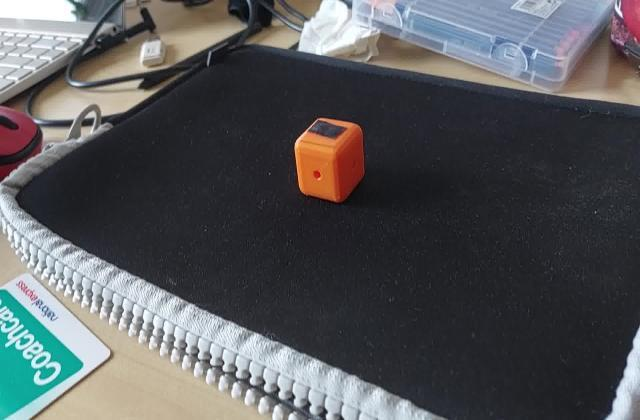black: (306, 121, 356, 144)
cube: (292, 122, 369, 204)
